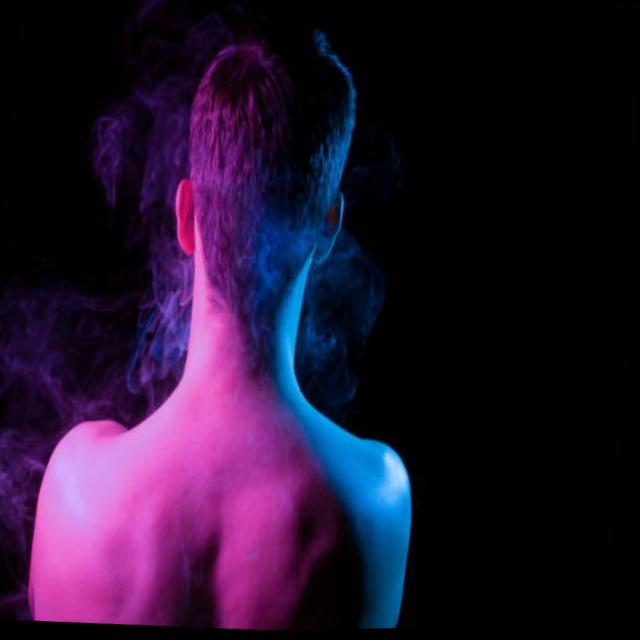no helmet: (167, 28, 377, 356)
